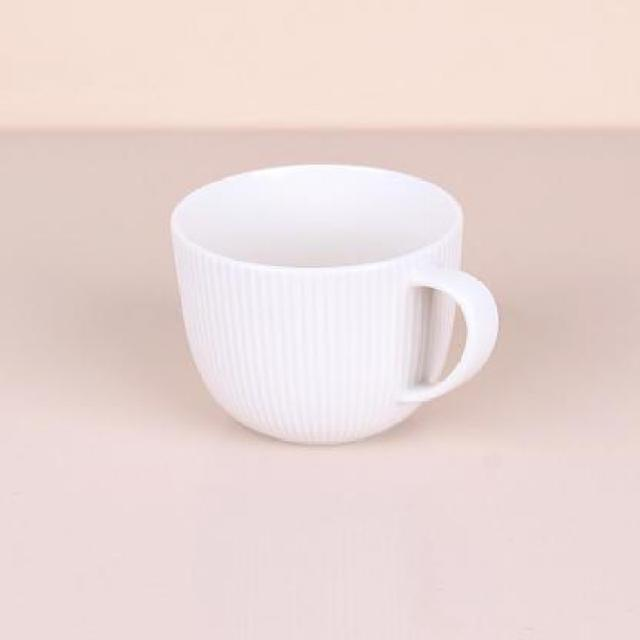taza: (171, 160, 502, 446)
